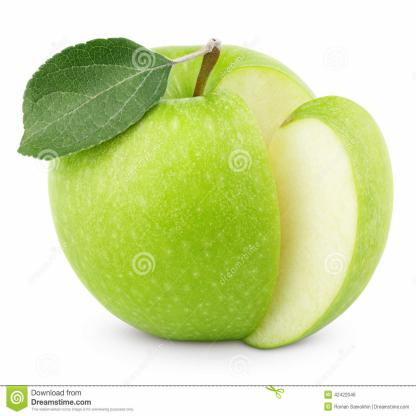apple leaf: (10, 31, 175, 166)
